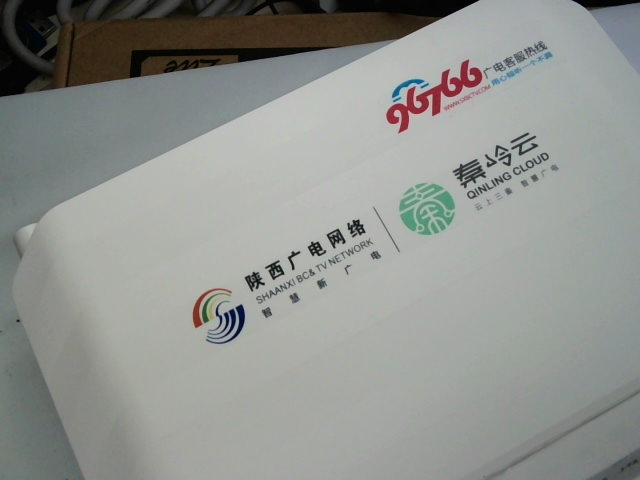QinLing: (377, 130, 571, 241)
